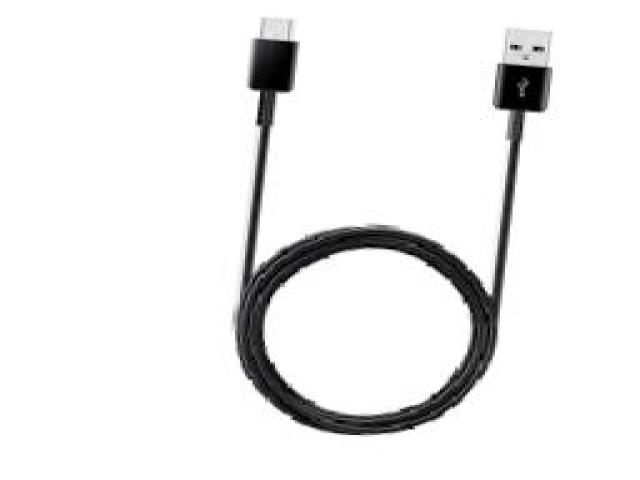wire: (238, 19, 549, 434)
